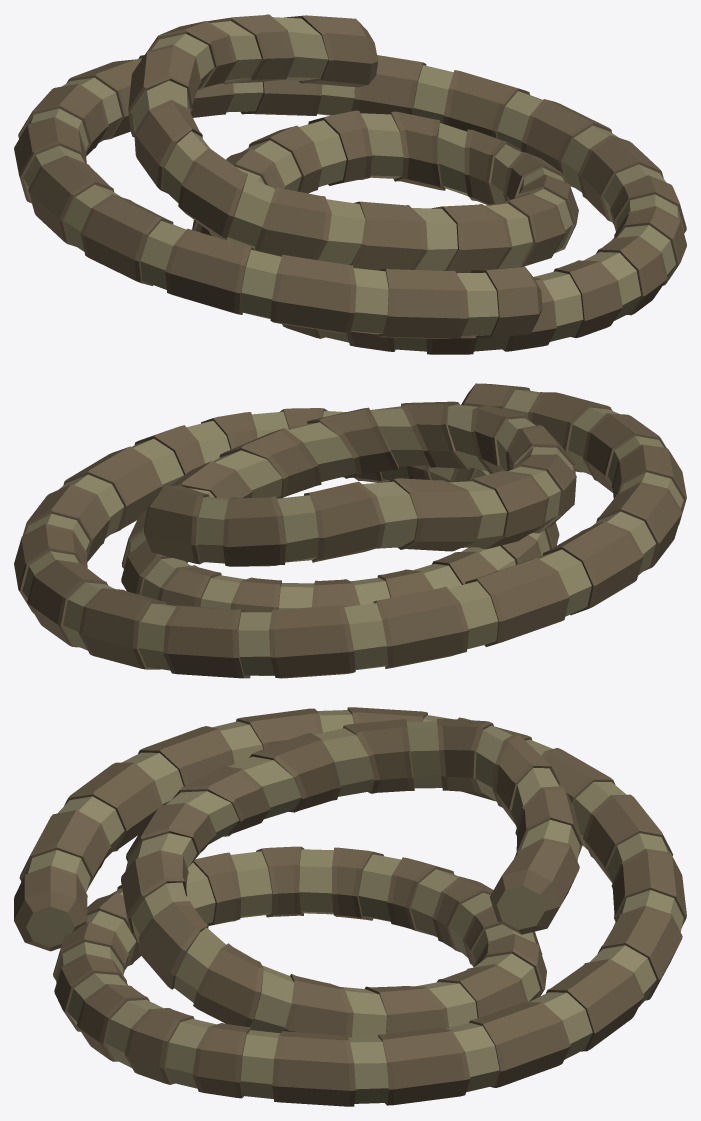
File: Rope.fbx
3 renders of one model, top to bottom at view 1: azimuth 30°, elevation 25°; view 2: azimuth 150°, elevation 25°; view 3: azimuth 270°, elevation 25°, orthographic.
Visible parts, largest first — view 1: Cylinder; view 2: Cylinder; view 3: Cylinder.
Part boxes in pixels (x1,y1,x2,y2): Cylinder: [14, 14, 686, 354]; Cylinder: [14, 383, 686, 678]; Cylinder: [14, 707, 686, 1106].
Size of the model in its own units: 0.935 by 0.3064 by 0.9459.
